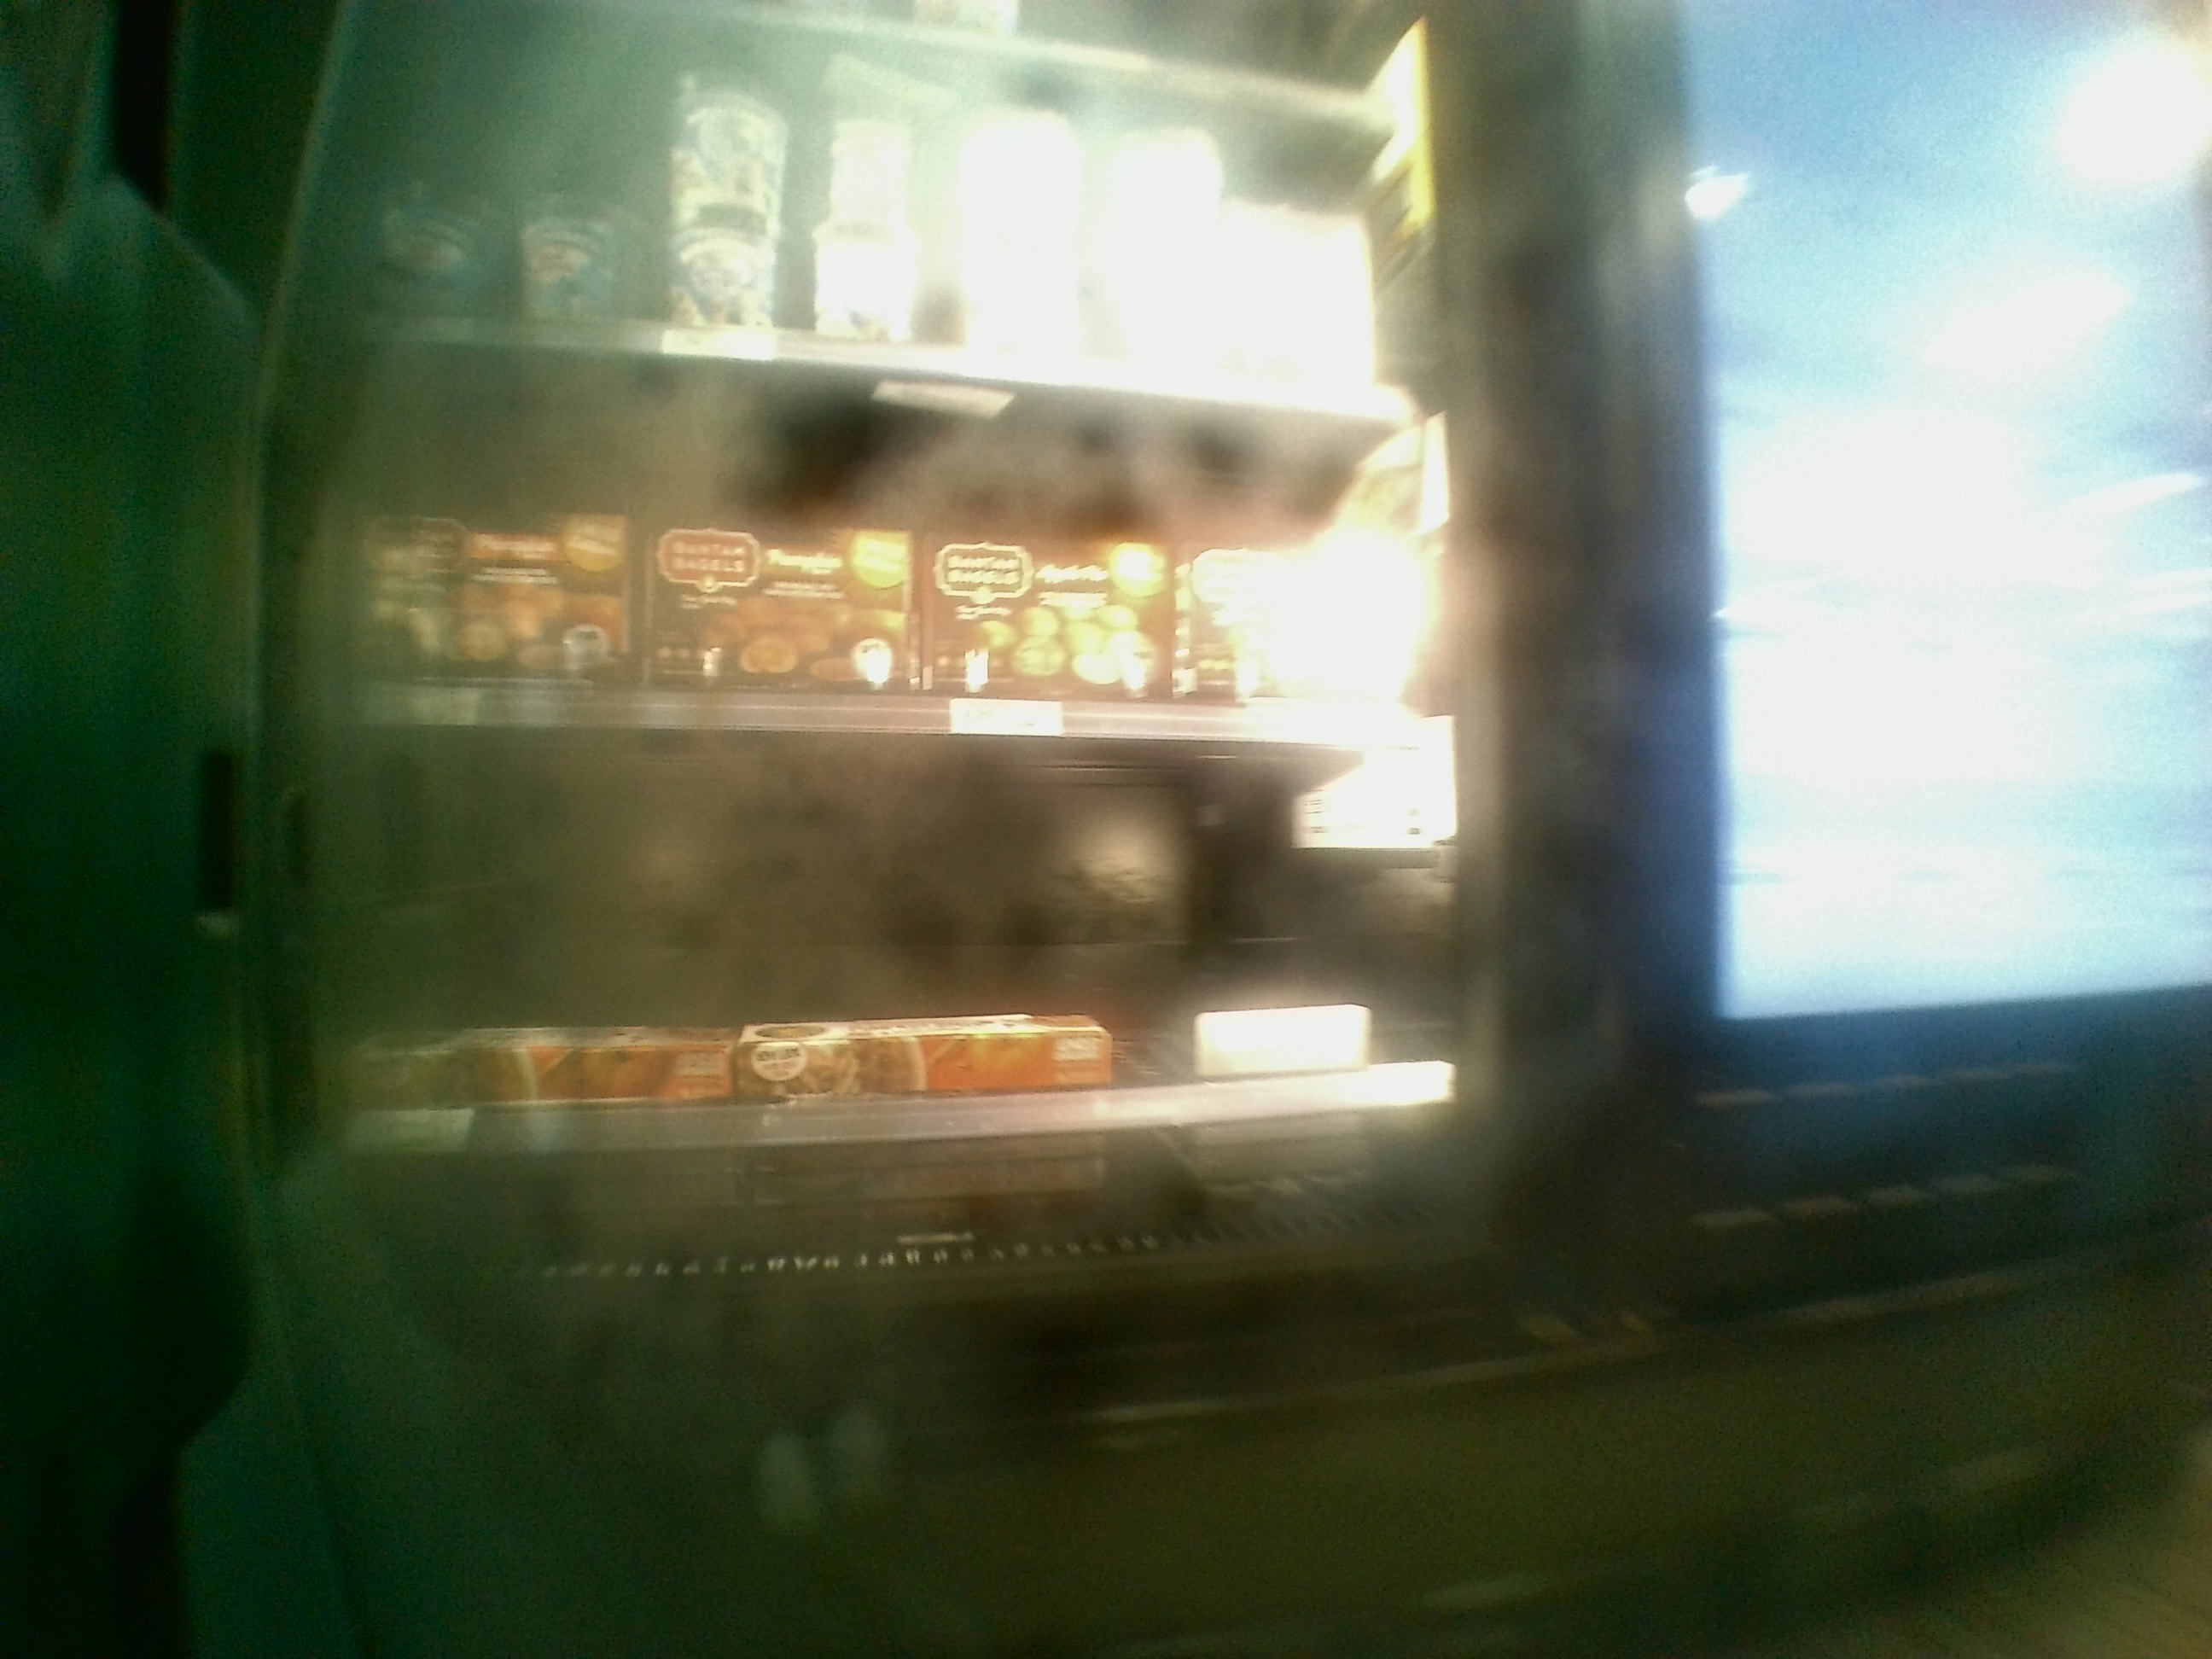shelf: (273, 704, 1465, 1122), (284, 336, 1451, 746)
